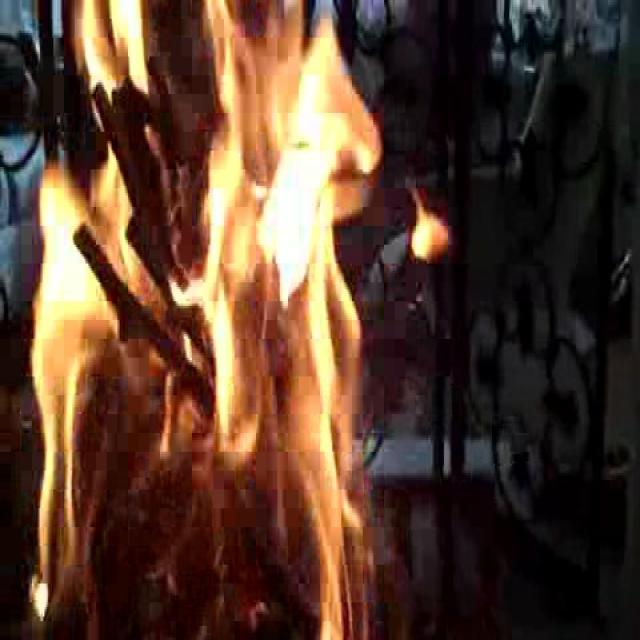Fire: (20, 0, 383, 635)
